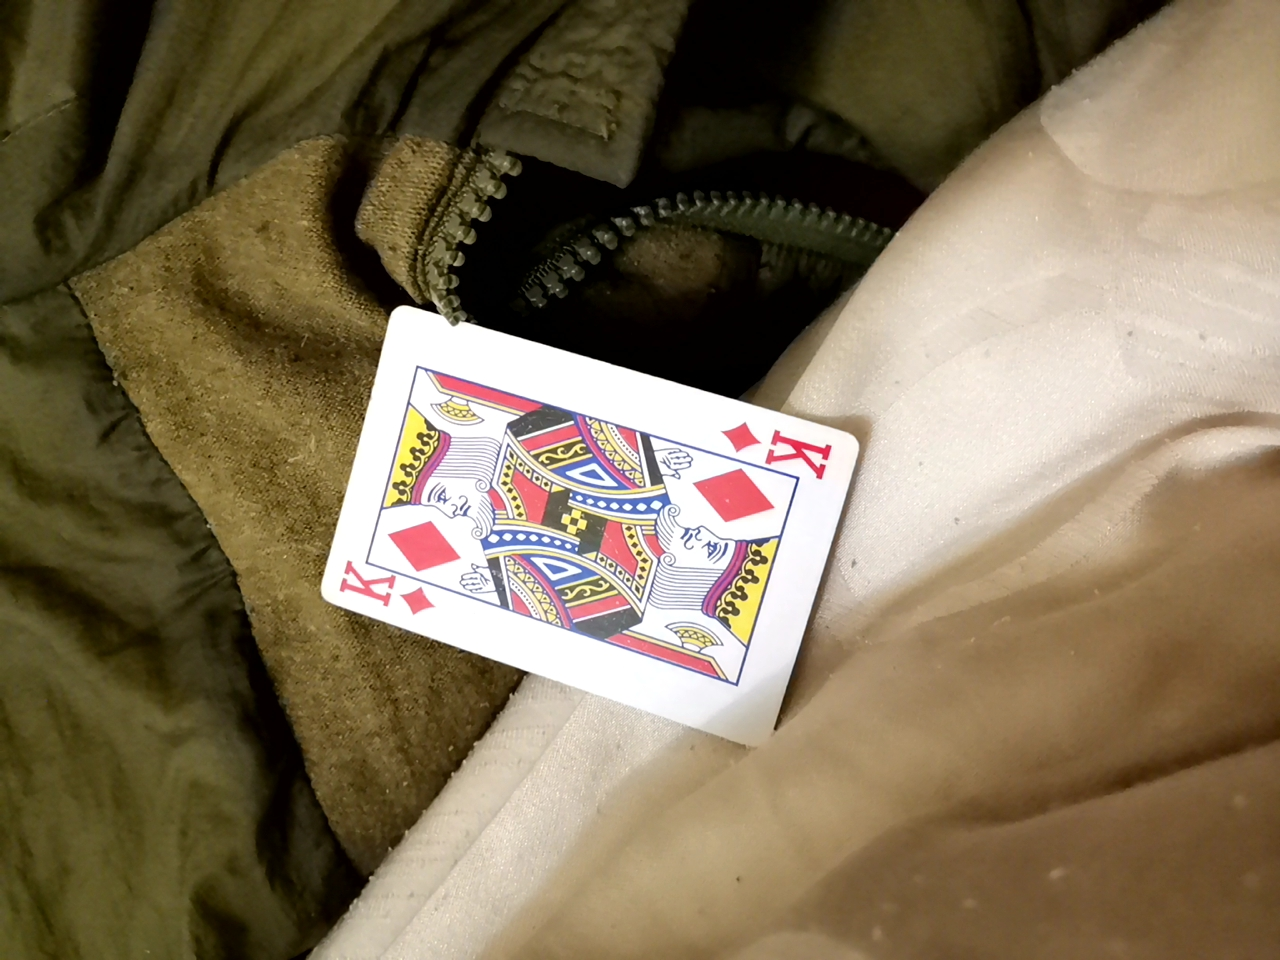fk k: (314, 297, 884, 743)
